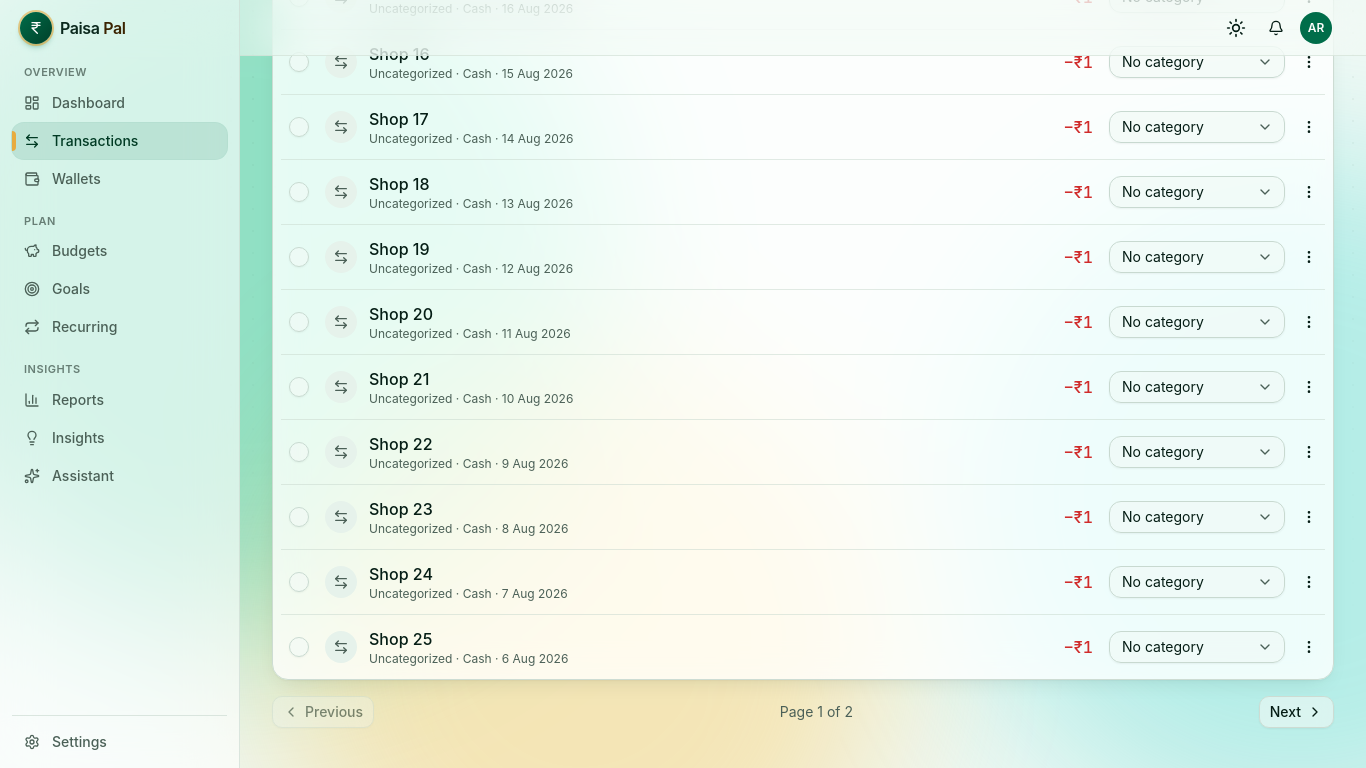
it: transactions list › pages through long lists
This screenshot has width=1366, height=768.
(page scrolled)
Expected: the text "Page 1 of 2" is shown, top-left (780, 702), bottom-right (853, 722)
Click the button "Next" at (1296,712), box top-left (1259, 696), bottom-right (1334, 728)
(page scrolled)
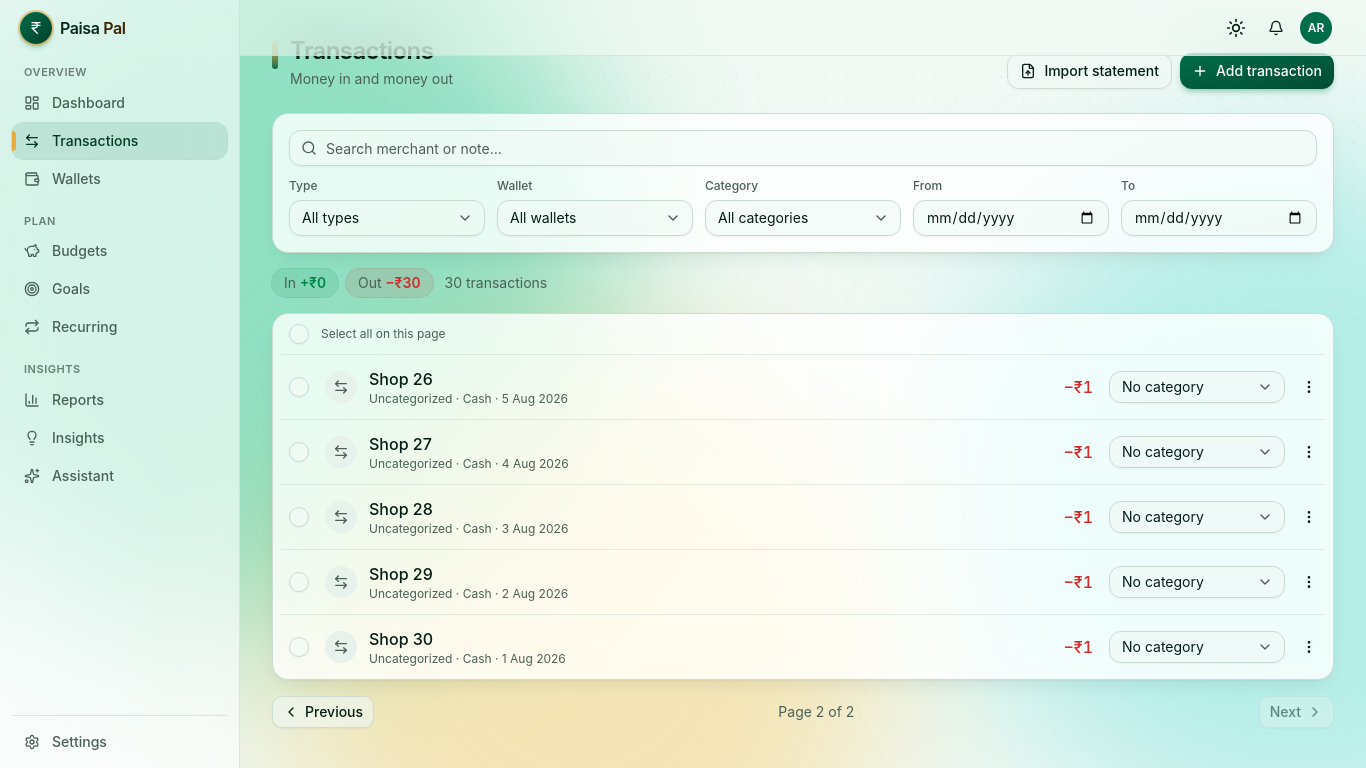
Result: the text "Page 2 of 2" is shown at top-left (778, 702), bottom-right (854, 722)
Result: the button "Next" is disabled at top-left (1259, 696), bottom-right (1334, 728)
